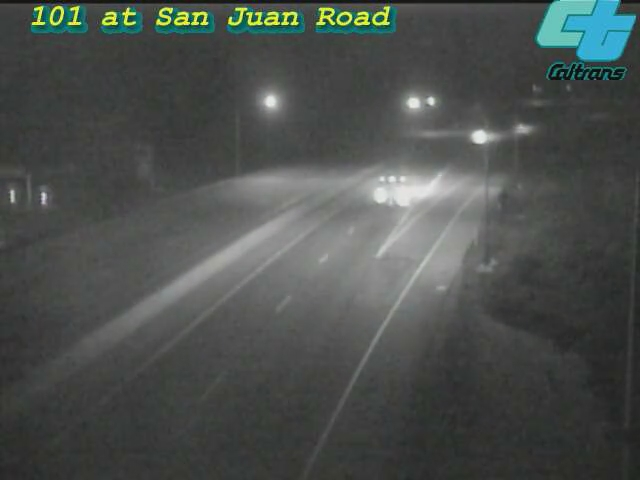vehicle: (352, 150, 432, 230), (496, 104, 546, 154), (455, 111, 505, 161)
